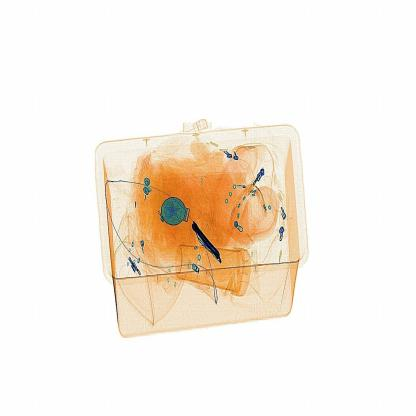knife: (187, 213, 226, 268)
